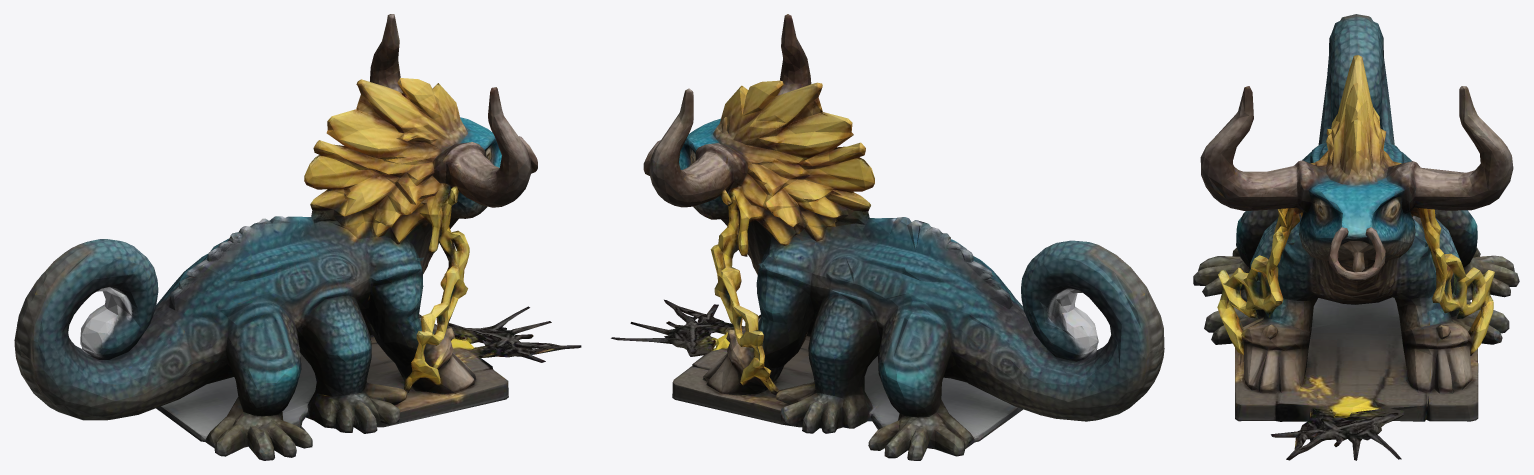
File: volthorn__chargehoof.glb
The picture shows the model from 3 angles, left to right: view 1: azimuth 30°, elevation 25°; view 2: azimuth 150°, elevation 25°; view 3: azimuth 270°, elevation 25°; orthographic projection. The views are drawn at different scales.
Visible parts, largest first — view 1: world; view 2: world; view 3: world.
Part boxes in pixels (x1,y1,x2,y2): world: (14, 14, 581, 460); world: (611, 14, 1164, 460); world: (1193, 14, 1519, 460).
Bounding box in the file's own units: 1 × 0.5576 × 0.5003.
Materials: 1 (1 with a texture image).
